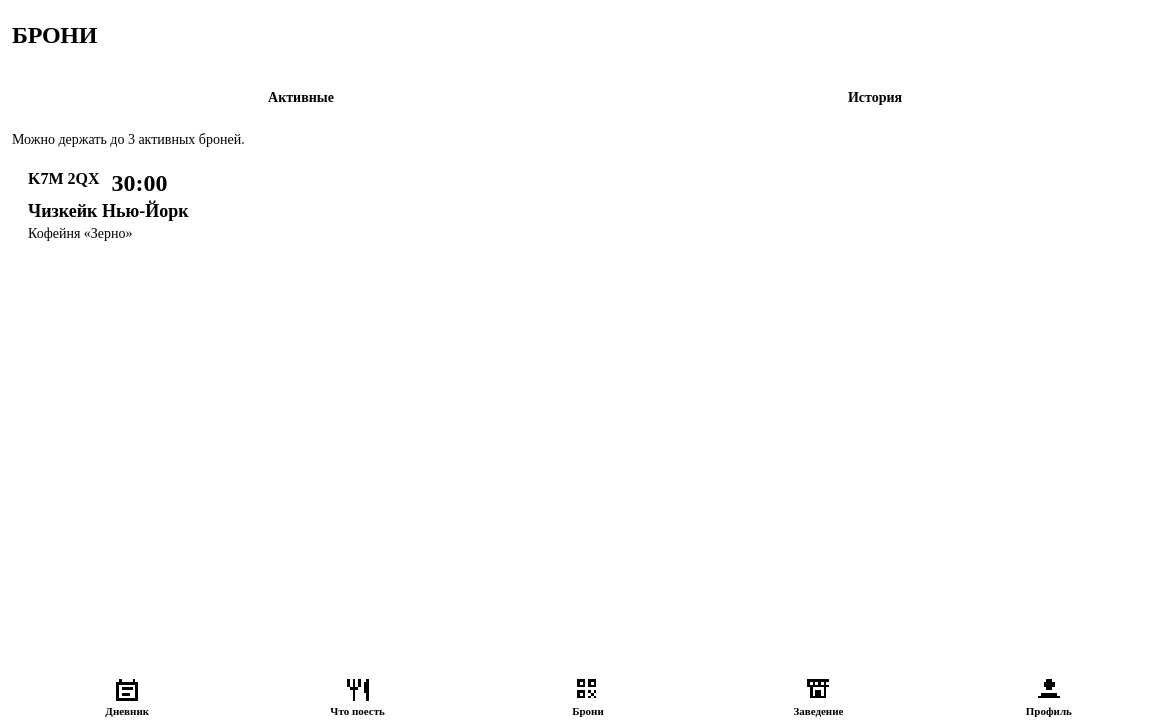
Scenario: list › shows active bookings, the history and the tab counter
Expected: the text "Можно держать до 3 активных броней." is shown, x1=12 y1=132 x2=245 y2=147
Expected: the text "K7M 2QX" is shown, x1=28 y1=170 x2=100 y2=197
Click the button "История" at (875, 98), box x1=590 y1=76 x2=1160 y2=120
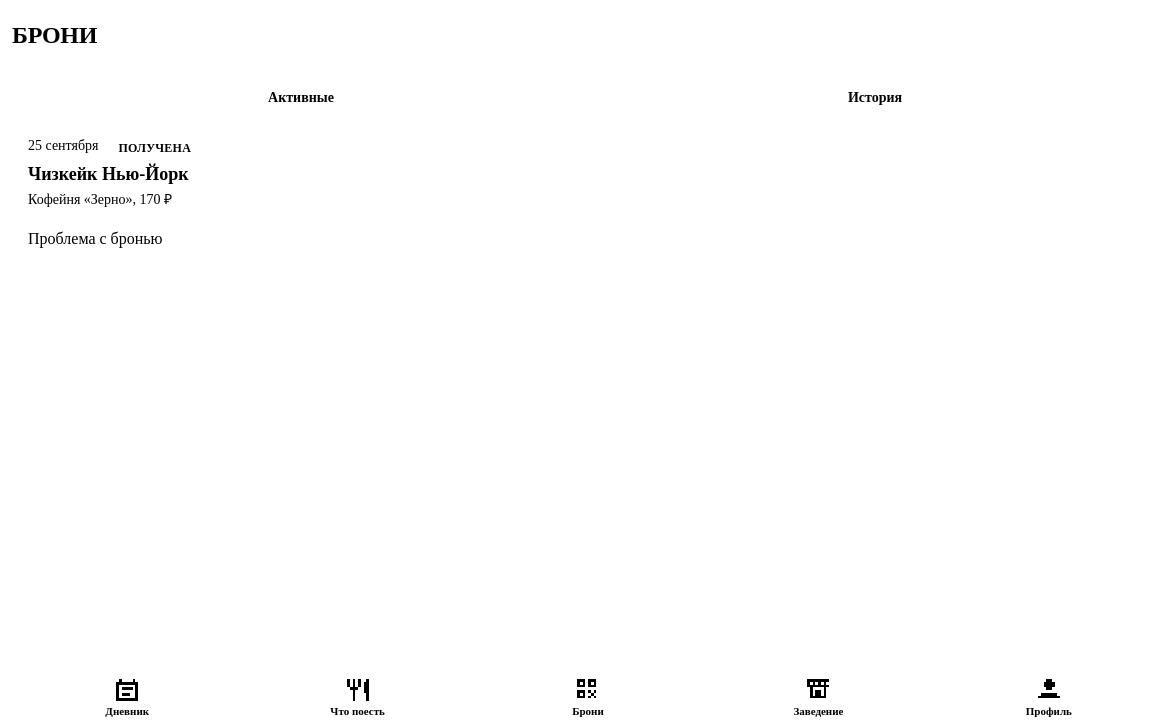
Now the text "Получена" is shown, box x1=118 y1=141 x2=191 y2=155
Now the text "25 сентября" is shown, box x1=28 y1=138 x2=98 y2=160
